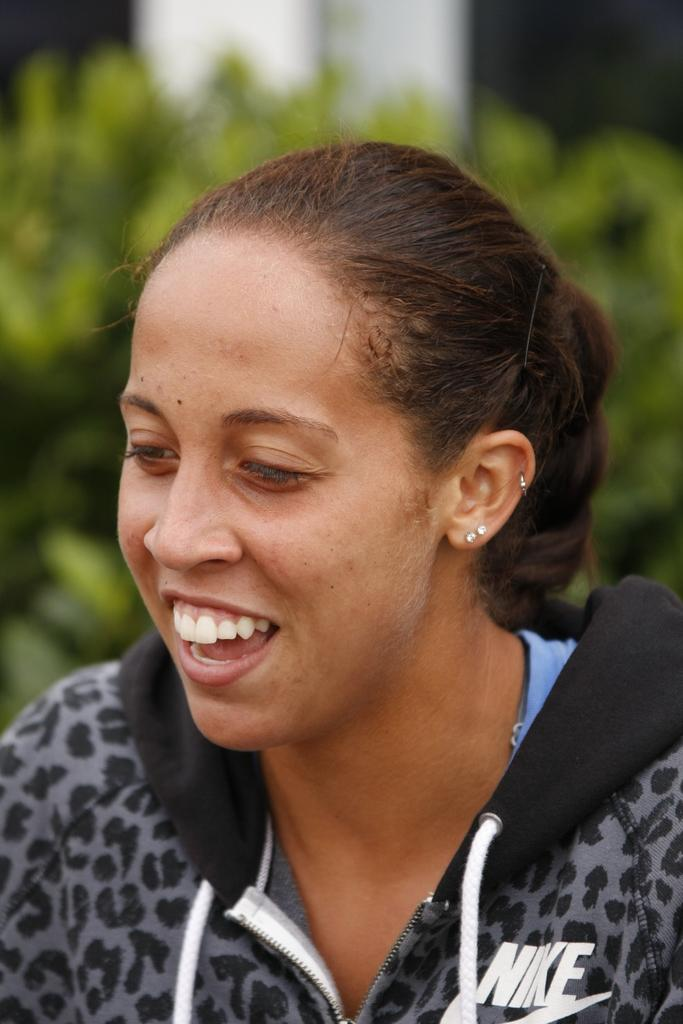earrings: (514, 471, 530, 496), (476, 519, 485, 531), (466, 530, 474, 542)
